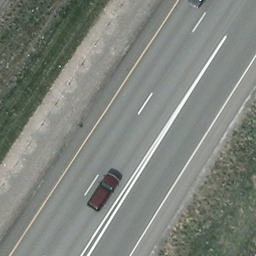car: (88, 174, 120, 213), (189, 0, 221, 9), (0, 0, 3, 13)
